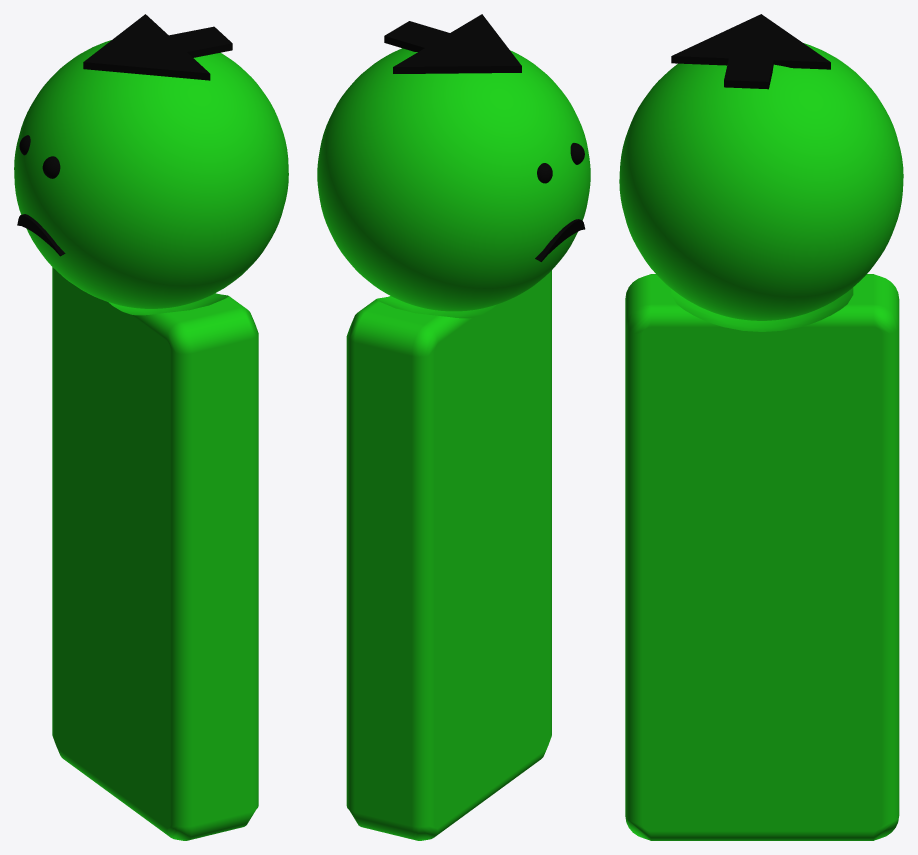
Rendered from green_sad.obj.
3 views of the same model, side by side, from view 1: azimuth 30°, elevation 25°; view 2: azimuth 150°, elevation 25°; view 3: azimuth 270°, elevation 25° (orthographic). The views are drawn at different scales.
Parts seen in each view (by area): view 1: 1_Curve.002_Curve.002, 5.002_Curve.002_Curve.003_5.002_Curve.002_Curve.001; view 2: 1_Curve.002_Curve.002, 5.002_Curve.002_Curve.003_5.002_Curve.002_Curve.001; view 3: 1_Curve.002_Curve.002, 5.002_Curve.002_Curve.003_5.002_Curve.002_Curve.001.
Boxes of the visible parts, box(x1,y1,x2,y2) form: 1_Curve.002_Curve.002: box(14, 40, 288, 840); 5.002_Curve.002_Curve.003_5.002_Curve.002_Curve.001: box(17, 14, 232, 256); 1_Curve.002_Curve.002: box(317, 48, 590, 840); 5.002_Curve.002_Curve.003_5.002_Curve.002_Curve.001: box(384, 14, 585, 261); 1_Curve.002_Curve.002: box(619, 43, 903, 840); 5.002_Curve.002_Curve.003_5.002_Curve.002_Curve.001: box(671, 14, 830, 89).
Size of the model in its own units: 0.1677 by 0.4993 by 0.1661.
